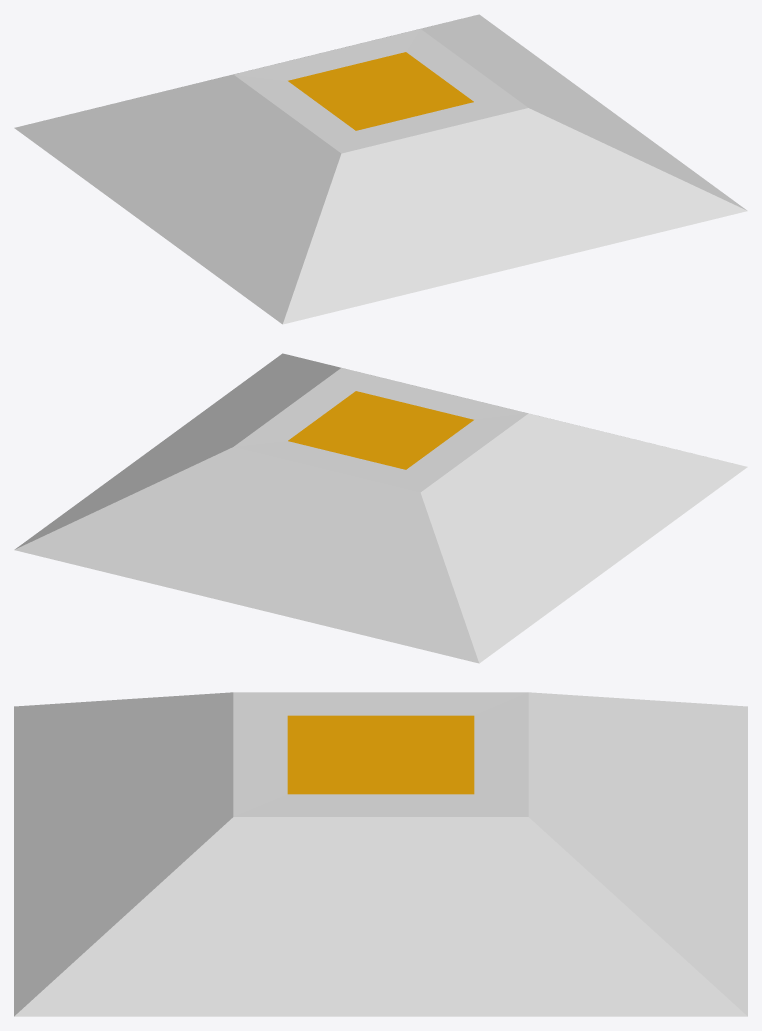
The model's file is moon_base.glb.
The picture shows the model from 3 angles, top to bottom: view 1: azimuth 30°, elevation 25°; view 2: azimuth 150°, elevation 25°; view 3: azimuth 270°, elevation 25°; orthographic projection. The views are drawn at different scales.
Parts seen in each view (by area): view 1: Cube; view 2: Cube; view 3: Cube.
Part boxes in pixels (box(x1,y1,x2,y2)): Cube: box(14, 14, 747, 324); Cube: box(14, 353, 747, 663); Cube: box(14, 692, 747, 1016).
Bounding box in the file's own units: 4.97 × 0.7995 × 4.97.
